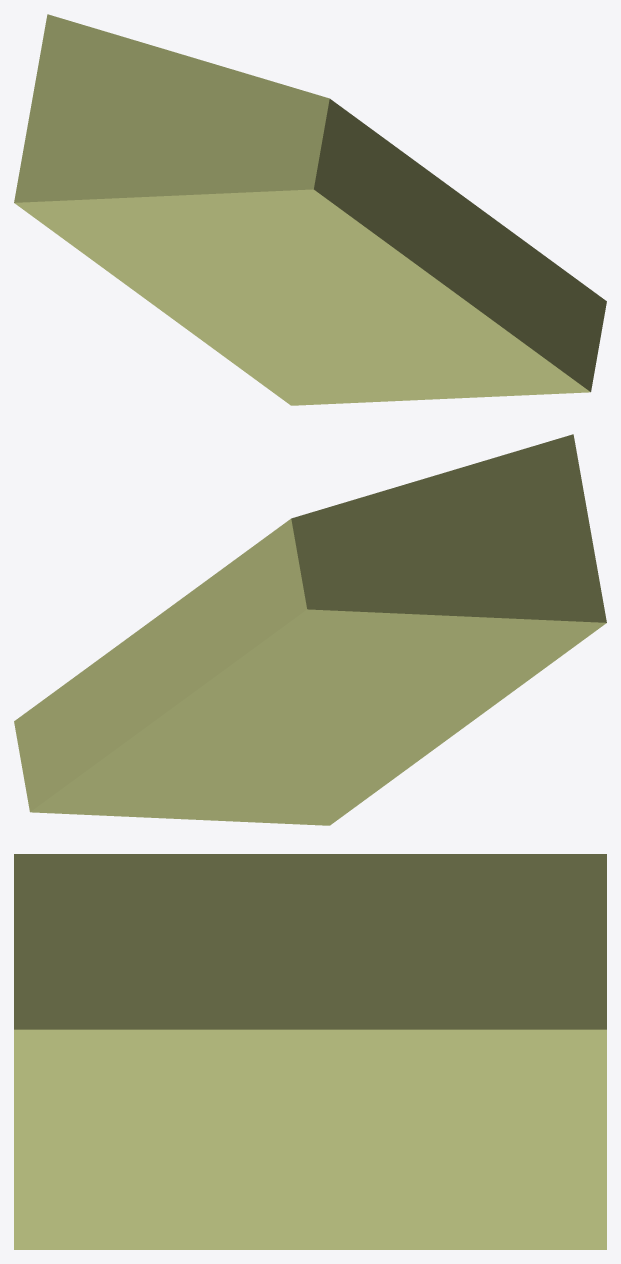
3 views of the same model, one above another, from view 1: azimuth 30°, elevation 25°; view 2: azimuth 150°, elevation 25°; view 3: azimuth 270°, elevation 25° (orthographic). The views are drawn at different scales.
Visible parts, largest first — view 1: 0_1_2_0_3_3_2_0_1_3_3; view 2: 0_1_2_0_3_3_2_0_1_3_3; view 3: 0_1_2_0_3_3_2_0_1_3_3.
Part boxes in pixels (box(x1,y1,x2,y2)): 0_1_2_0_3_3_2_0_1_3_3: box(14, 14, 606, 405); 0_1_2_0_3_3_2_0_1_3_3: box(14, 434, 606, 825); 0_1_2_0_3_3_2_0_1_3_3: box(14, 854, 606, 1249).
Bounding box in the file's own units: 5.92 × 4.3 × 9.
